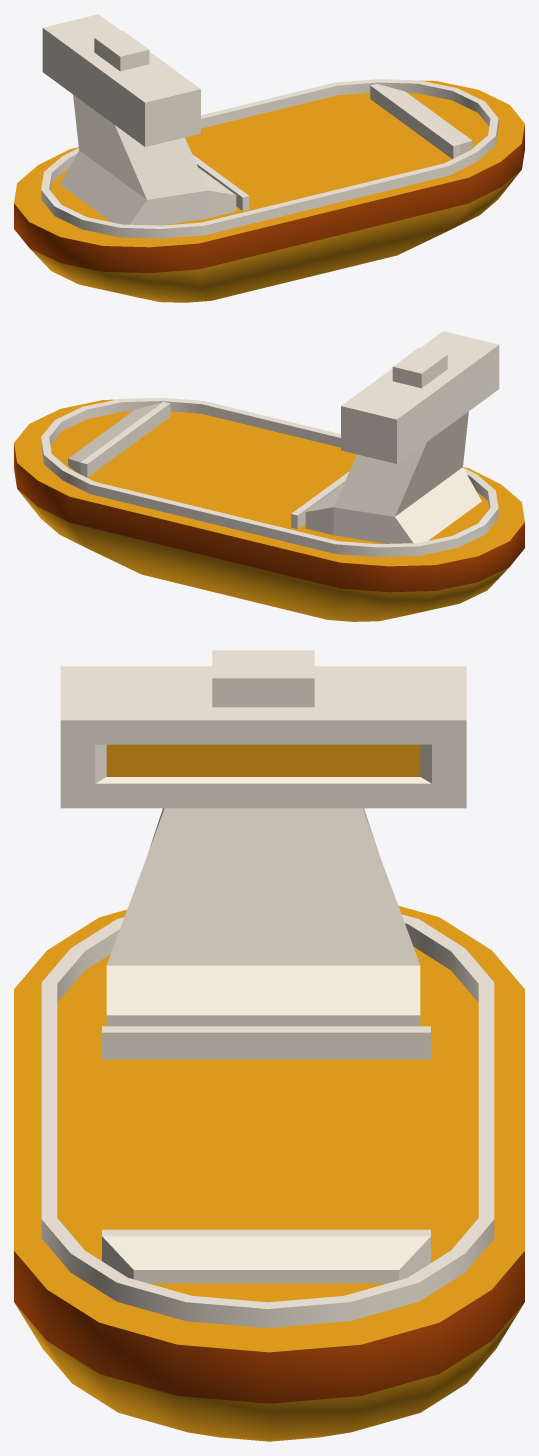
File: ShipMedium.fbx
The picture shows the model from 3 angles, top to bottom: view 1: azimuth 30°, elevation 25°; view 2: azimuth 150°, elevation 25°; view 3: azimuth 270°, elevation 25°; orthographic projection. The views are drawn at different scales.
Parts seen in each view (by area): view 1: ShipMedium; view 2: ShipMedium; view 3: ShipMedium.
Part boxes in pixels (<box>): ShipMedium: <box>14,14,524,302</box>; ShipMedium: <box>14,331,524,621</box>; ShipMedium: <box>14,650,524,1441</box>.
Bounding box in the file's own units: 285 × 140 × 132.
